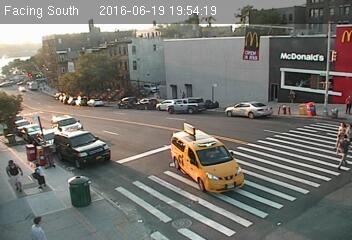neg: (96, 67, 116, 93), (19, 65, 36, 88), (38, 90, 52, 108), (1, 105, 13, 120), (43, 59, 54, 73), (83, 98, 91, 110), (58, 90, 66, 101)
pos: (29, 159, 52, 190), (26, 211, 46, 237), (287, 88, 301, 107), (340, 92, 351, 116)
